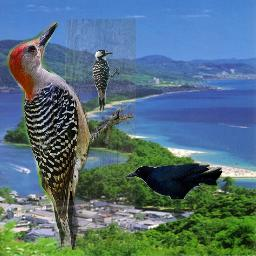Crow: (124, 163, 222, 199)
Woodpecker: (0, 19, 136, 250), (91, 49, 122, 112)
